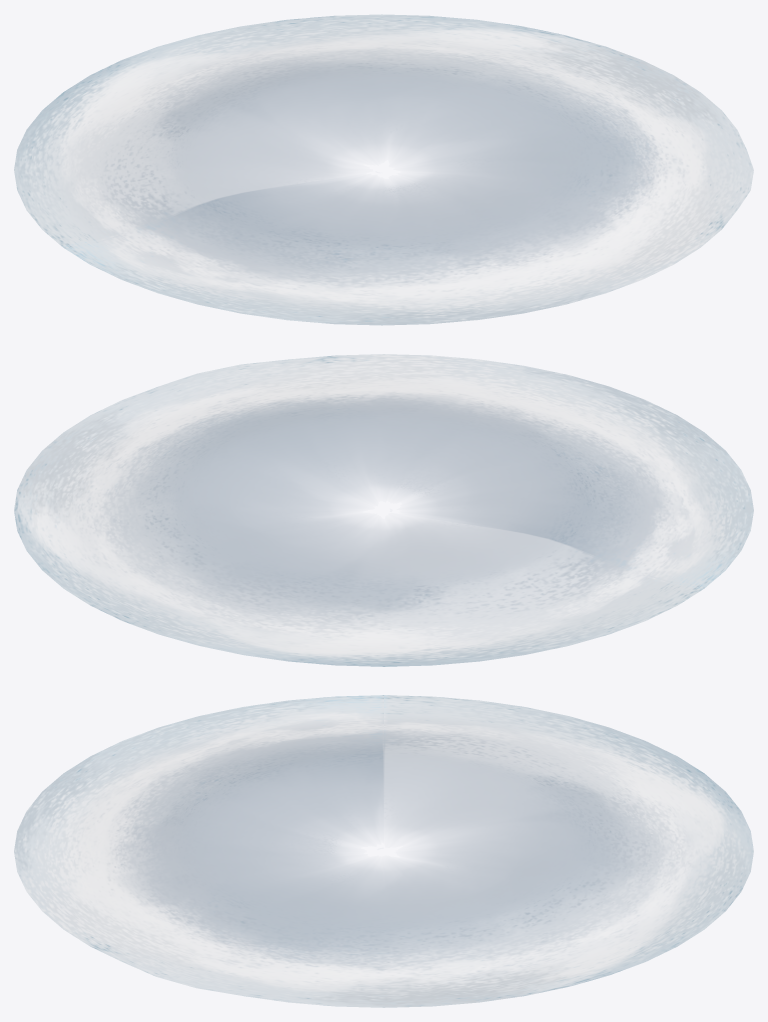
The model's file is ripples.fbx.
3 views of the same model, one above another, from view 1: azimuth 30°, elevation 25°; view 2: azimuth 150°, elevation 25°; view 3: azimuth 270°, elevation 25° (orthographic).
Parts seen in each view (by area): view 1: Ripples; view 2: Ripples; view 3: Ripples.
Boxes of the visible parts, x1=… form: Ripples: x1=14, y1=14, x2=753, y2=325; Ripples: x1=14, y1=354, x2=753, y2=666; Ripples: x1=14, y1=695, x2=753, y2=1007.
Size of the model in its own units: 4888 by 102 by 4888.
